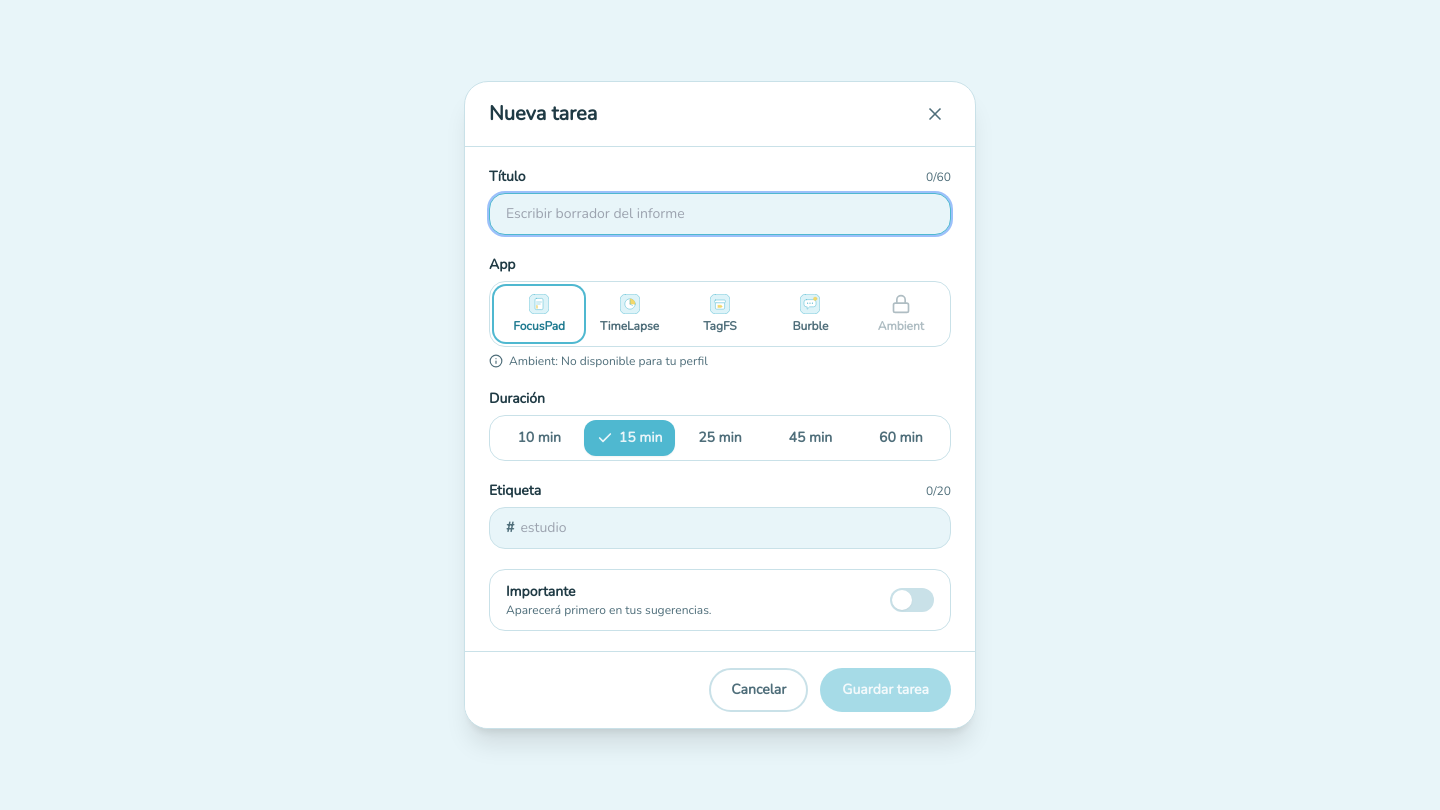
Test: DialogoTarea › muestra error junto al campo con role="alert" cuando la etiqueta tiene caracteres inválidos
Type "Leer notas" into the field labelled "Título" at (720, 214), box [489, 193, 951, 235]
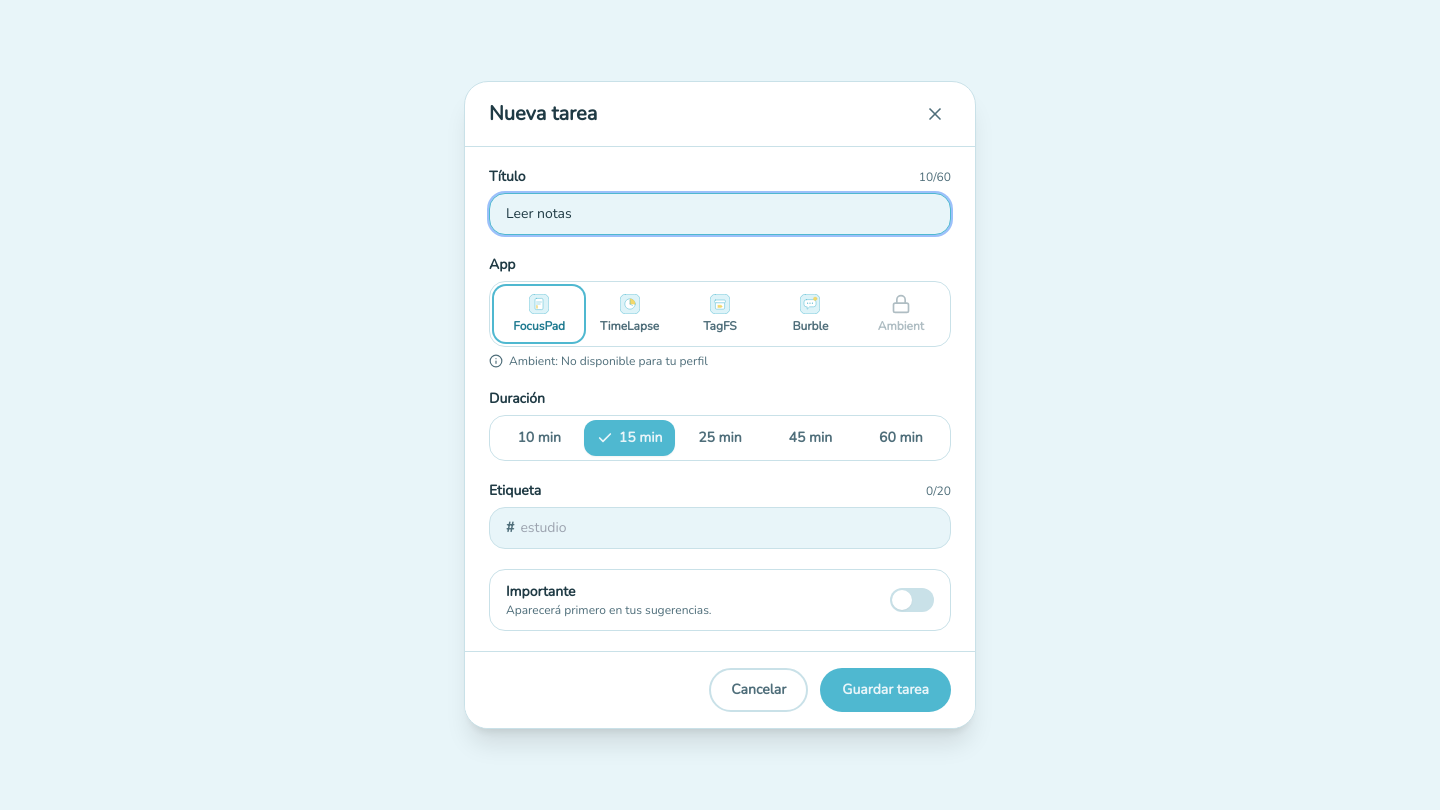
Type "raro$!" into the field labelled "Etiqueta" at (727, 528), box [520, 518, 934, 538]
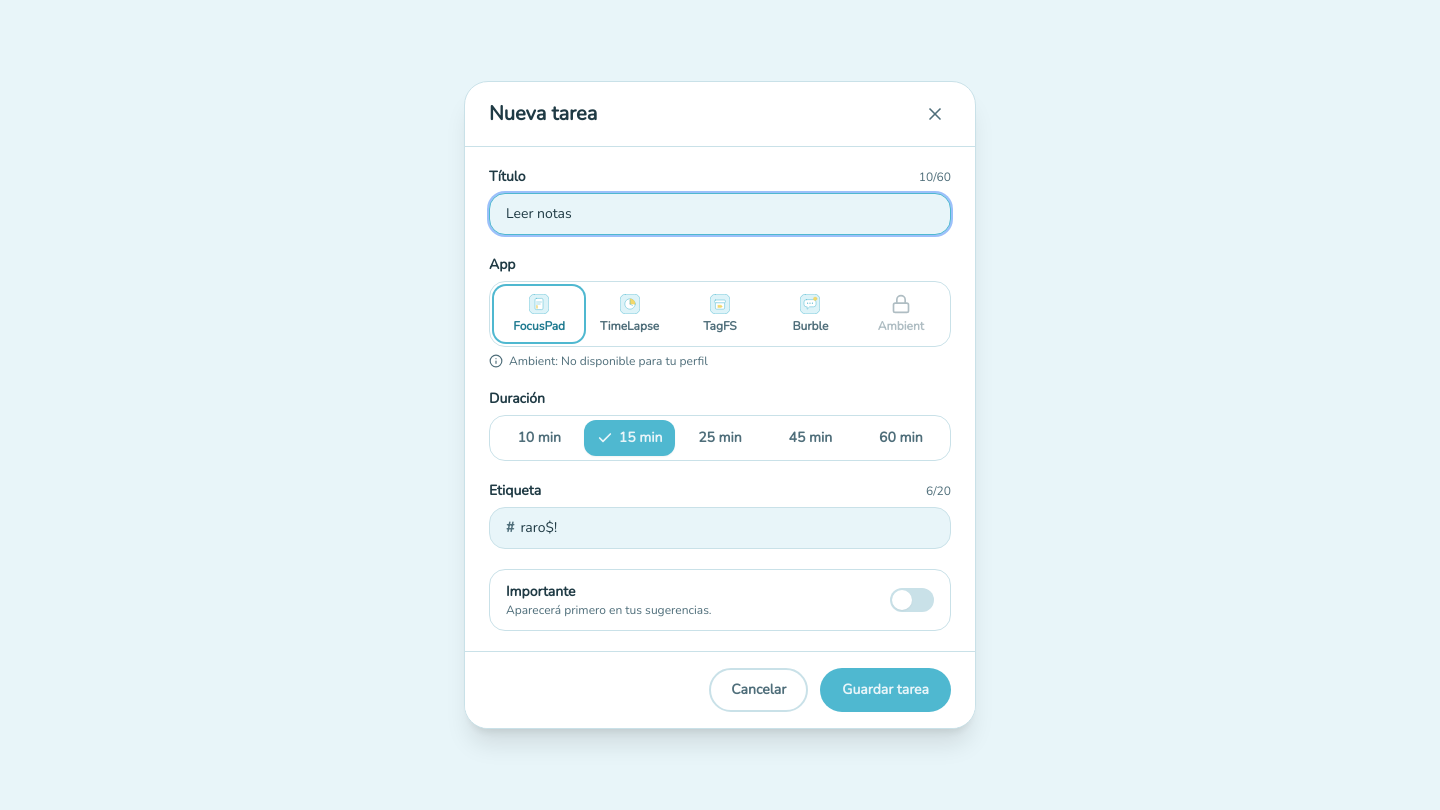
Click the button "Guardar tarea" at (886, 690), box [820, 668, 951, 712]
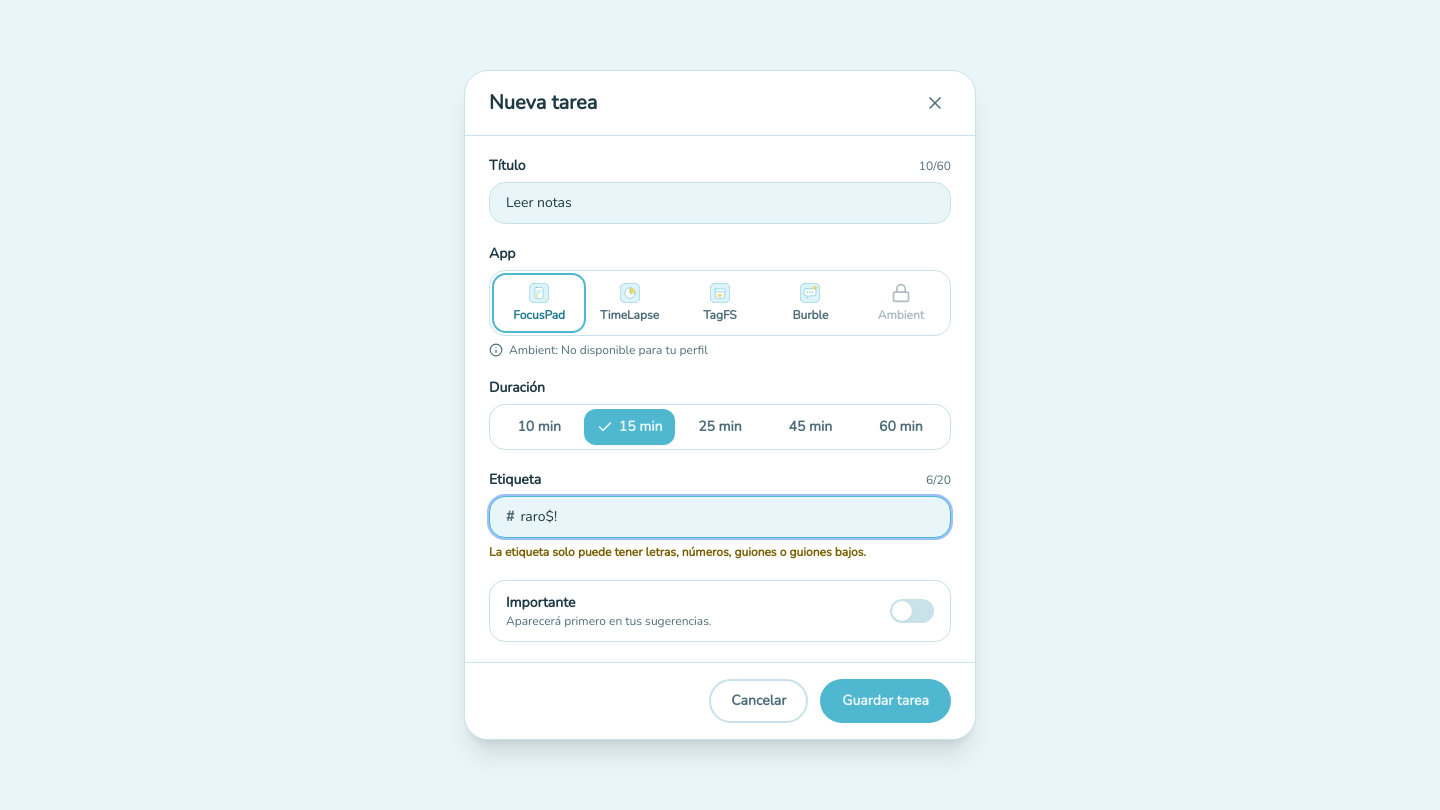
Result: the message shows "letras, números, guiones" at [489, 544, 866, 560]
